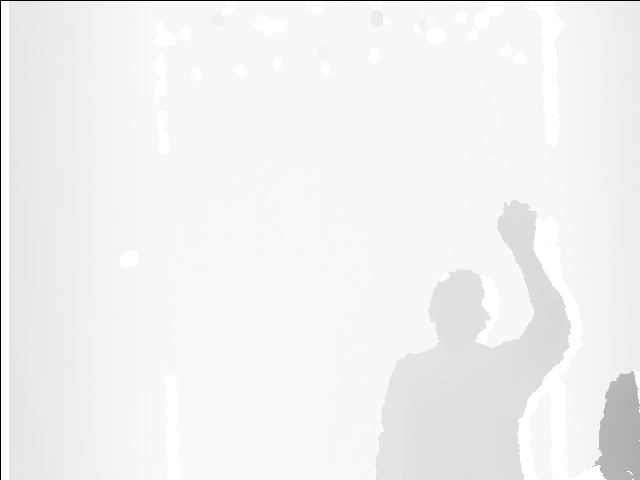hand: (495, 198, 540, 253)
